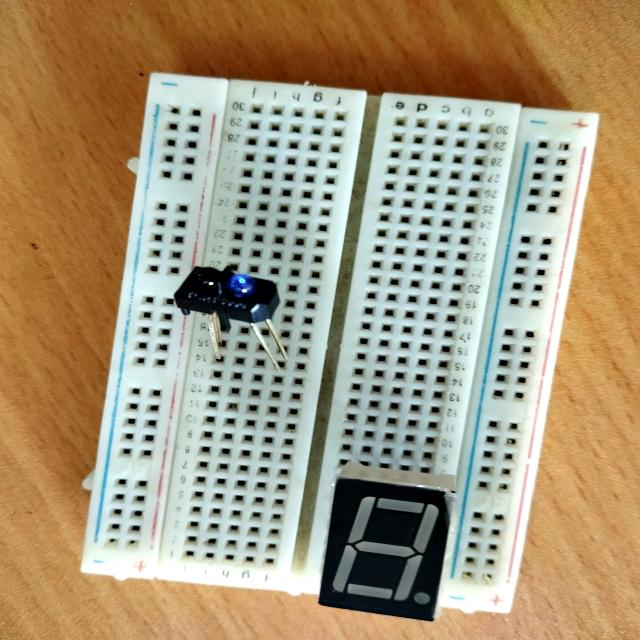7-Segment-Display: (314, 457, 464, 628)
Breadboard: (72, 58, 606, 624)
TCRT5000: (166, 258, 298, 377)
